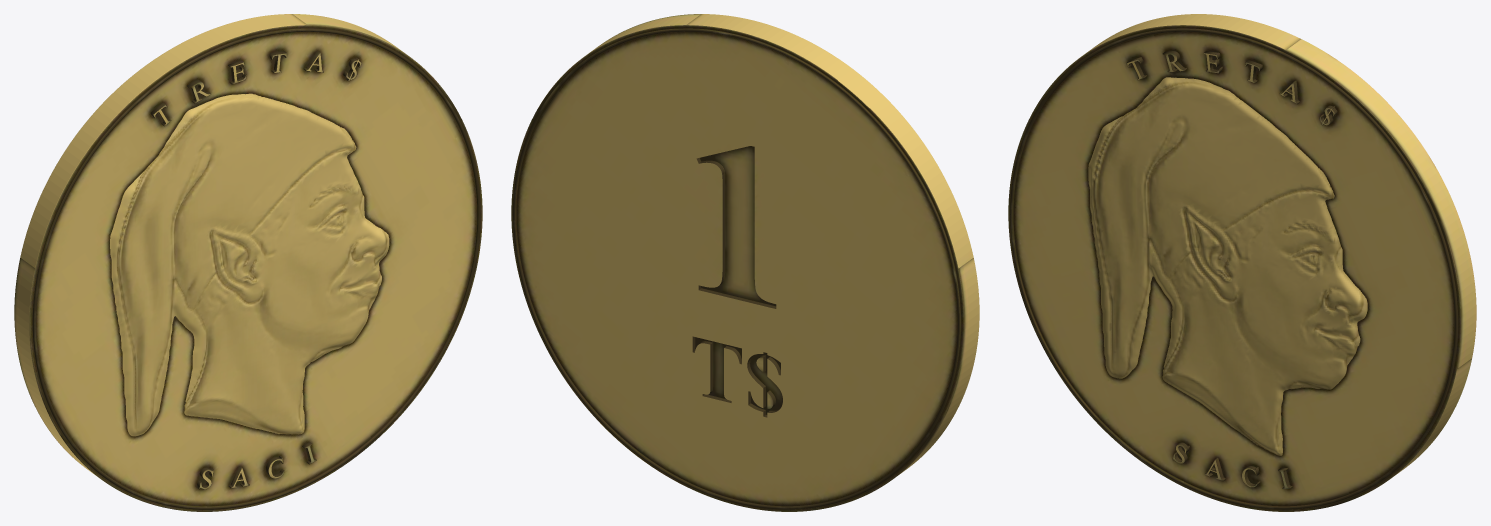
The model's file is coin-classic-saci-82ad26210cf8.glb.
3 renders of one model, left to right at view 1: azimuth 30°, elevation 25°; view 2: azimuth 150°, elevation 25°; view 3: azimuth 330°, elevation 25°, orthographic.
Visible parts, largest first — view 1: CleanCoinBody, Mint_Saci_Shallow_Obverse; view 2: CleanCoinBody; view 3: CleanCoinBody, Mint_Saci_Shallow_Obverse.
Part boxes in pixels (x1=…): CleanCoinBody: x1=14, y1=14, x2=482, y2=511; Mint_Saci_Shallow_Obverse: x1=110, y1=93, x2=389, y2=436; CleanCoinBody: x1=511, y1=14, x2=979, y2=511; CleanCoinBody: x1=1008, y1=14, x2=1476, y2=511; Mint_Saci_Shallow_Obverse: x1=1088, y1=77, x2=1367, y2=455.
Size of the model in its own units: 2 by 2 by 0.155.
2 materials, 2 textured.
